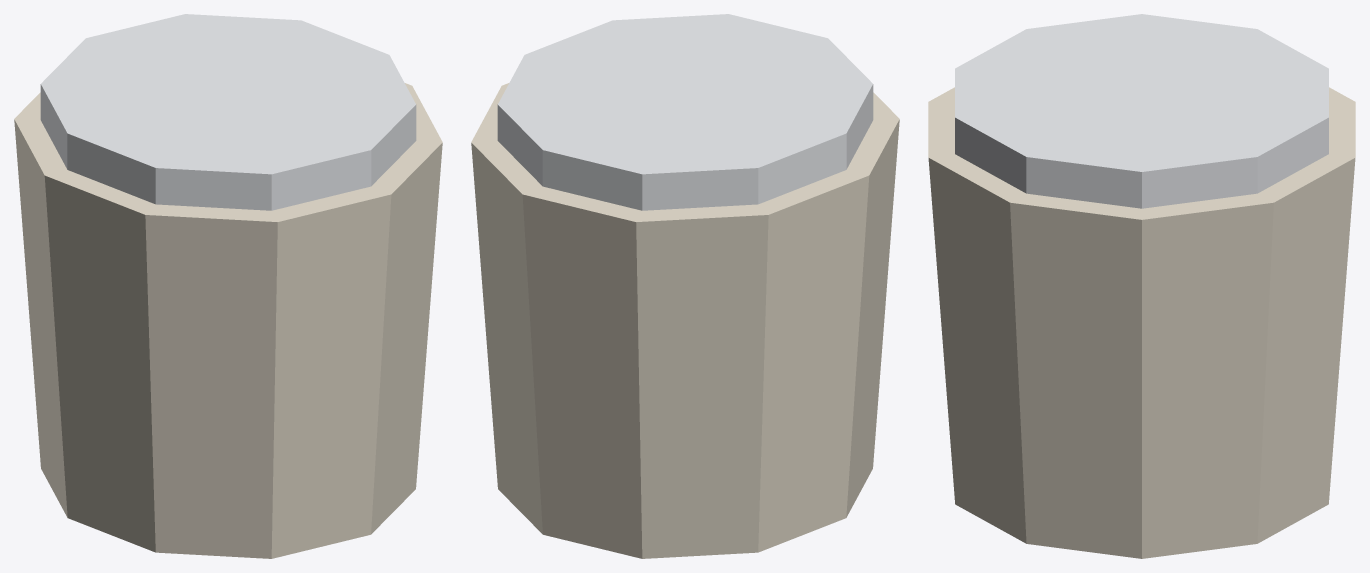
File: b17_paneled_soccer_ball.glb
The picture shows the model from 3 angles, left to right: view 1: azimuth 30°, elevation 25°; view 2: azimuth 150°, elevation 25°; view 3: azimuth 270°, elevation 25°; orthographic projection.
Parts seen in each view (by area): view 1: b17_paneled_soccer_ball; view 2: b17_paneled_soccer_ball; view 3: b17_paneled_soccer_ball.
Boxes of the visible parts, left/top/right/bottom form: b17_paneled_soccer_ball: left=14, top=14, right=442, bottom=558; b17_paneled_soccer_ball: left=471, top=14, right=899, bottom=558; b17_paneled_soccer_ball: left=928, top=14, right=1355, bottom=558.
Size of the model in its own units: 0.215 by 0.215 by 0.215.
